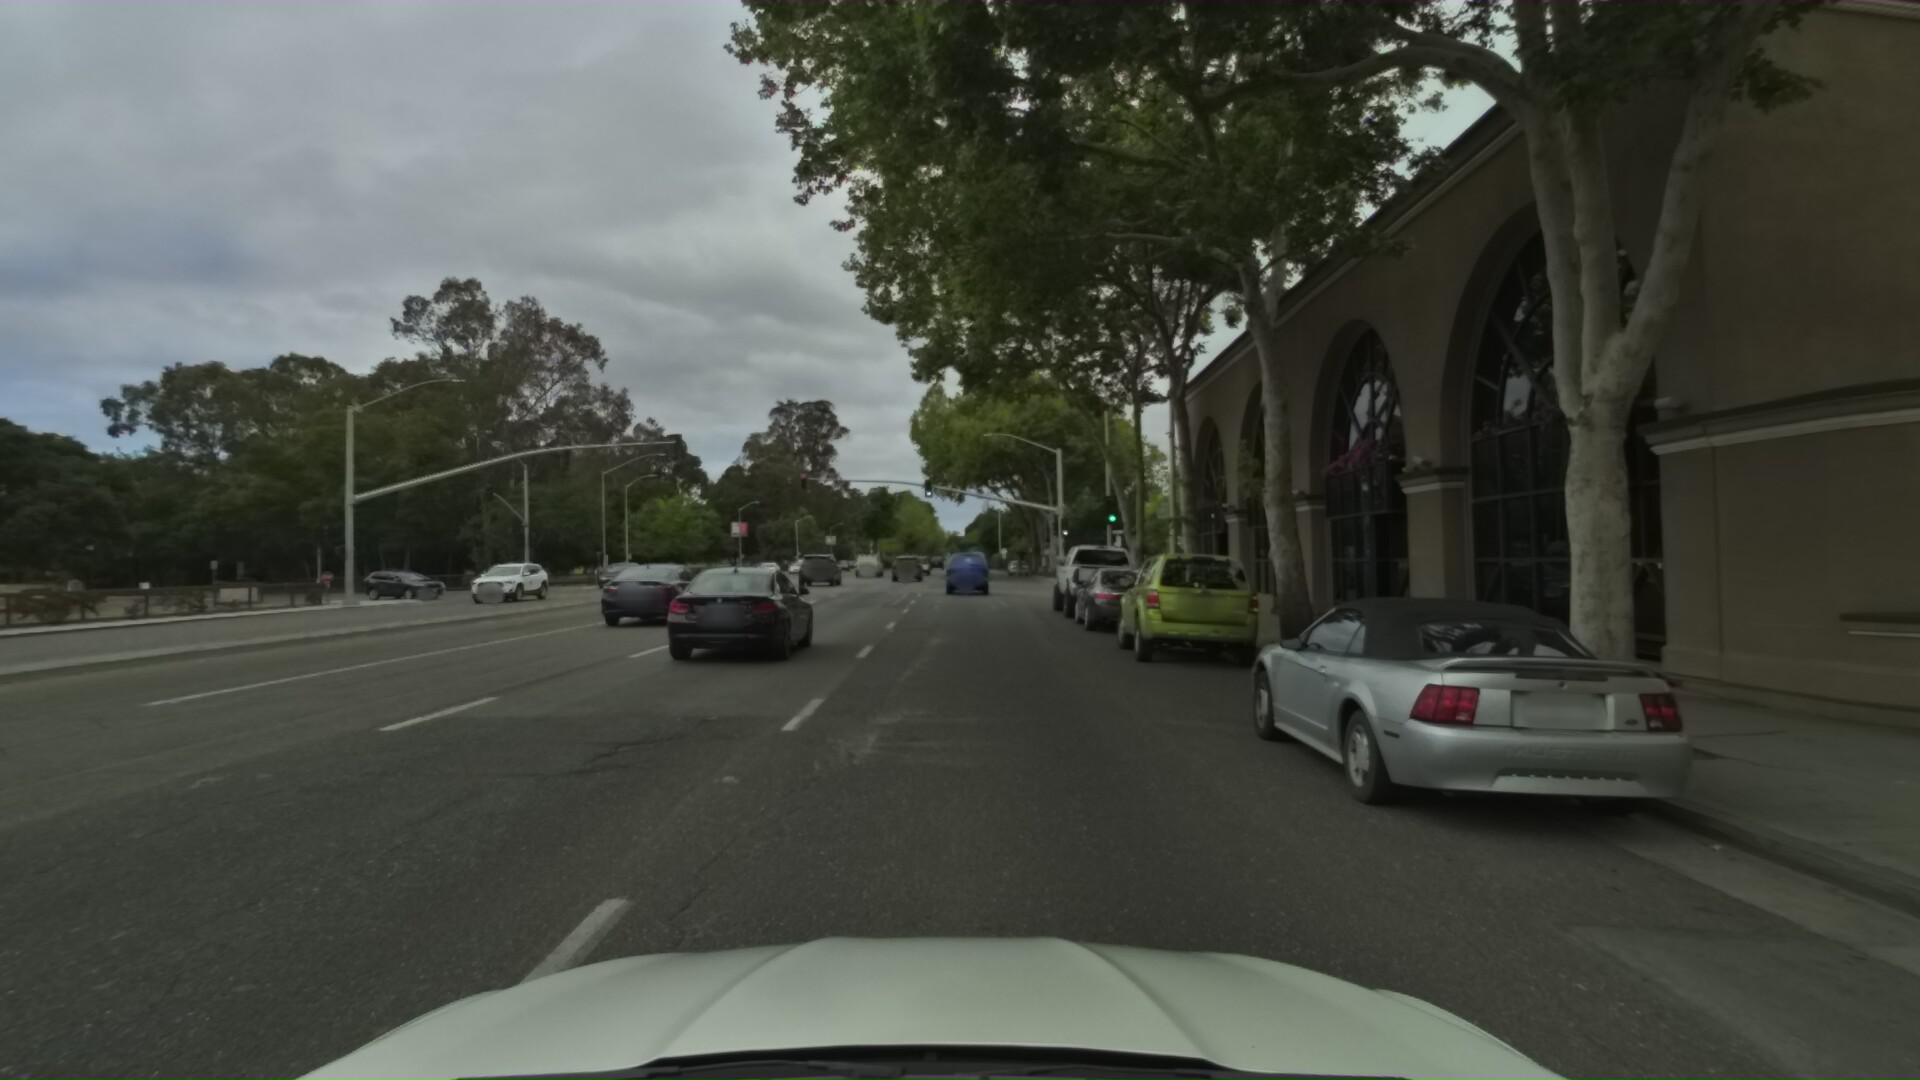car: (1246, 582, 1796, 891), (1117, 545, 1278, 676), (647, 555, 824, 675), (591, 545, 725, 632), (1052, 535, 1153, 622), (1073, 559, 1180, 636), (448, 551, 546, 604), (351, 564, 450, 597), (942, 543, 993, 592), (796, 550, 847, 589), (591, 558, 644, 585), (887, 551, 924, 583), (851, 549, 882, 578)
